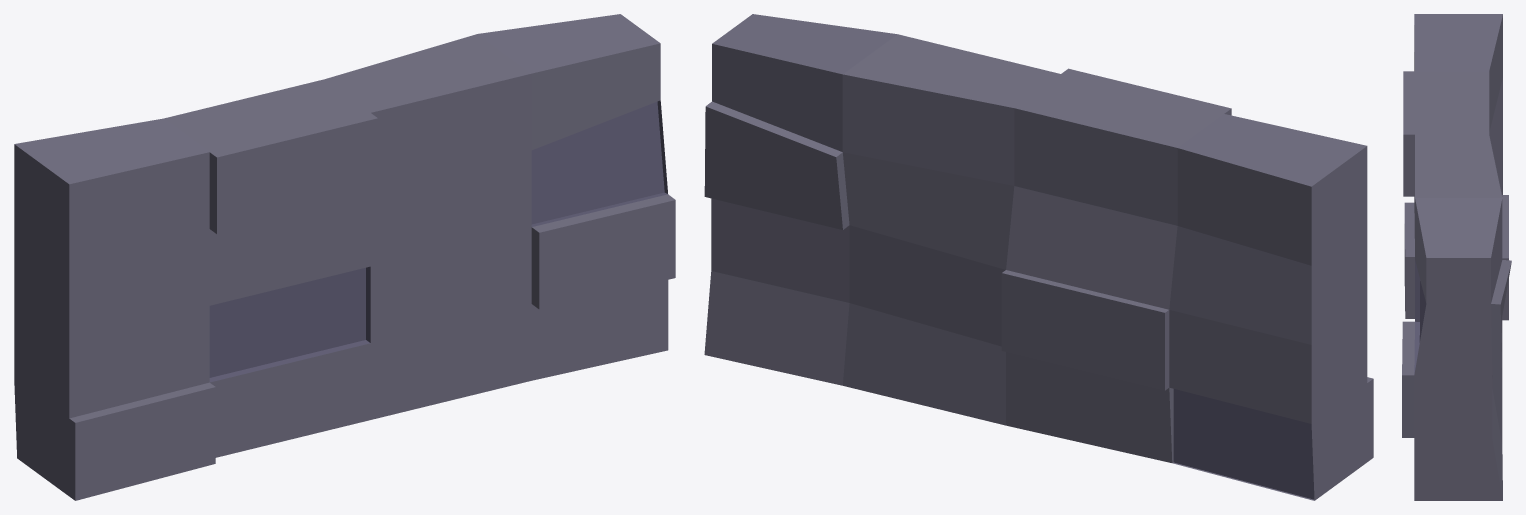
Rendered from muro.fbx.
The picture shows the model from 3 angles, left to right: view 1: azimuth 30°, elevation 25°; view 2: azimuth 150°, elevation 25°; view 3: azimuth 270°, elevation 25°; orthographic projection. The views are drawn at different scales.
Visible parts, largest first — view 1: muro; view 2: muro; view 3: muro.
Boxes of the visible parts, x1,y1,x2,y2 form: muro: (14,14,675,500); muro: (704,14,1373,500); muro: (1402,14,1511,500).
Bounding box in the file's own units: 126 × 317 × 637.
